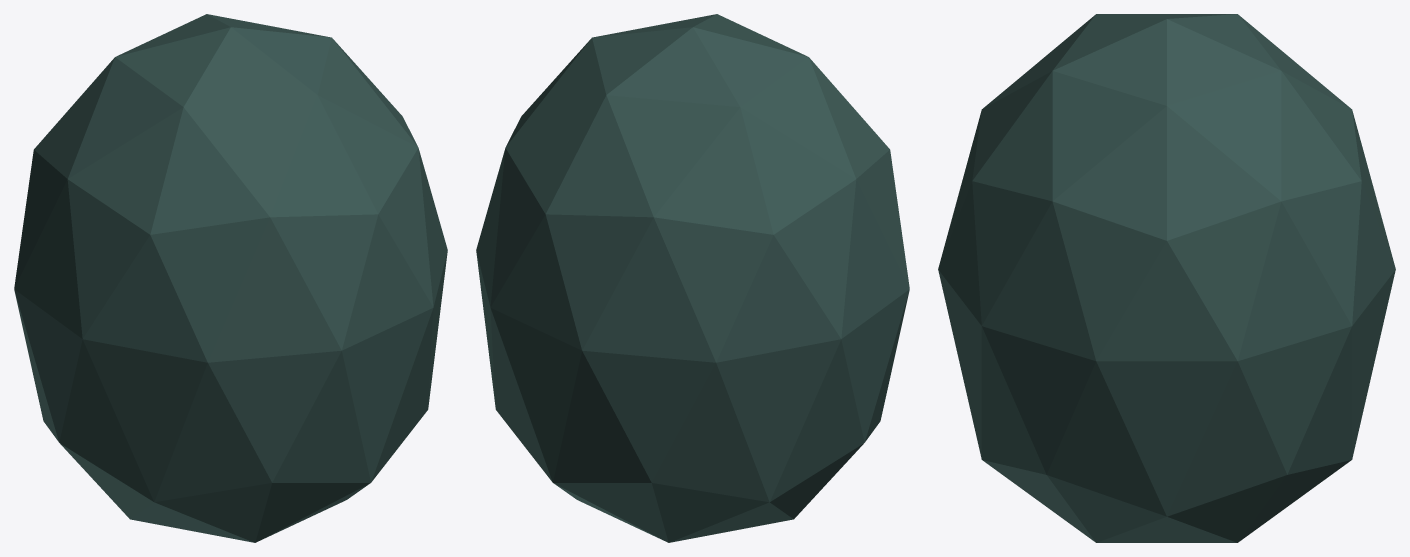
Rendered from Krosnja.fbx.
The picture shows the model from 3 angles, left to right: view 1: azimuth 30°, elevation 25°; view 2: azimuth 150°, elevation 25°; view 3: azimuth 270°, elevation 25°; orthographic projection. The views are drawn at different scales.
Parts seen in each view (by area): view 1: Krosnja; view 2: Krosnja; view 3: Krosnja.
Part boxes in pixels (left/top/right/bottom): Krosnja: left=14, top=14, right=447, bottom=542; Krosnja: left=476, top=14, right=909, bottom=542; Krosnja: left=938, top=14, right=1395, bottom=542.
Bounding box in the file's own units: 111 × 144 × 117.
